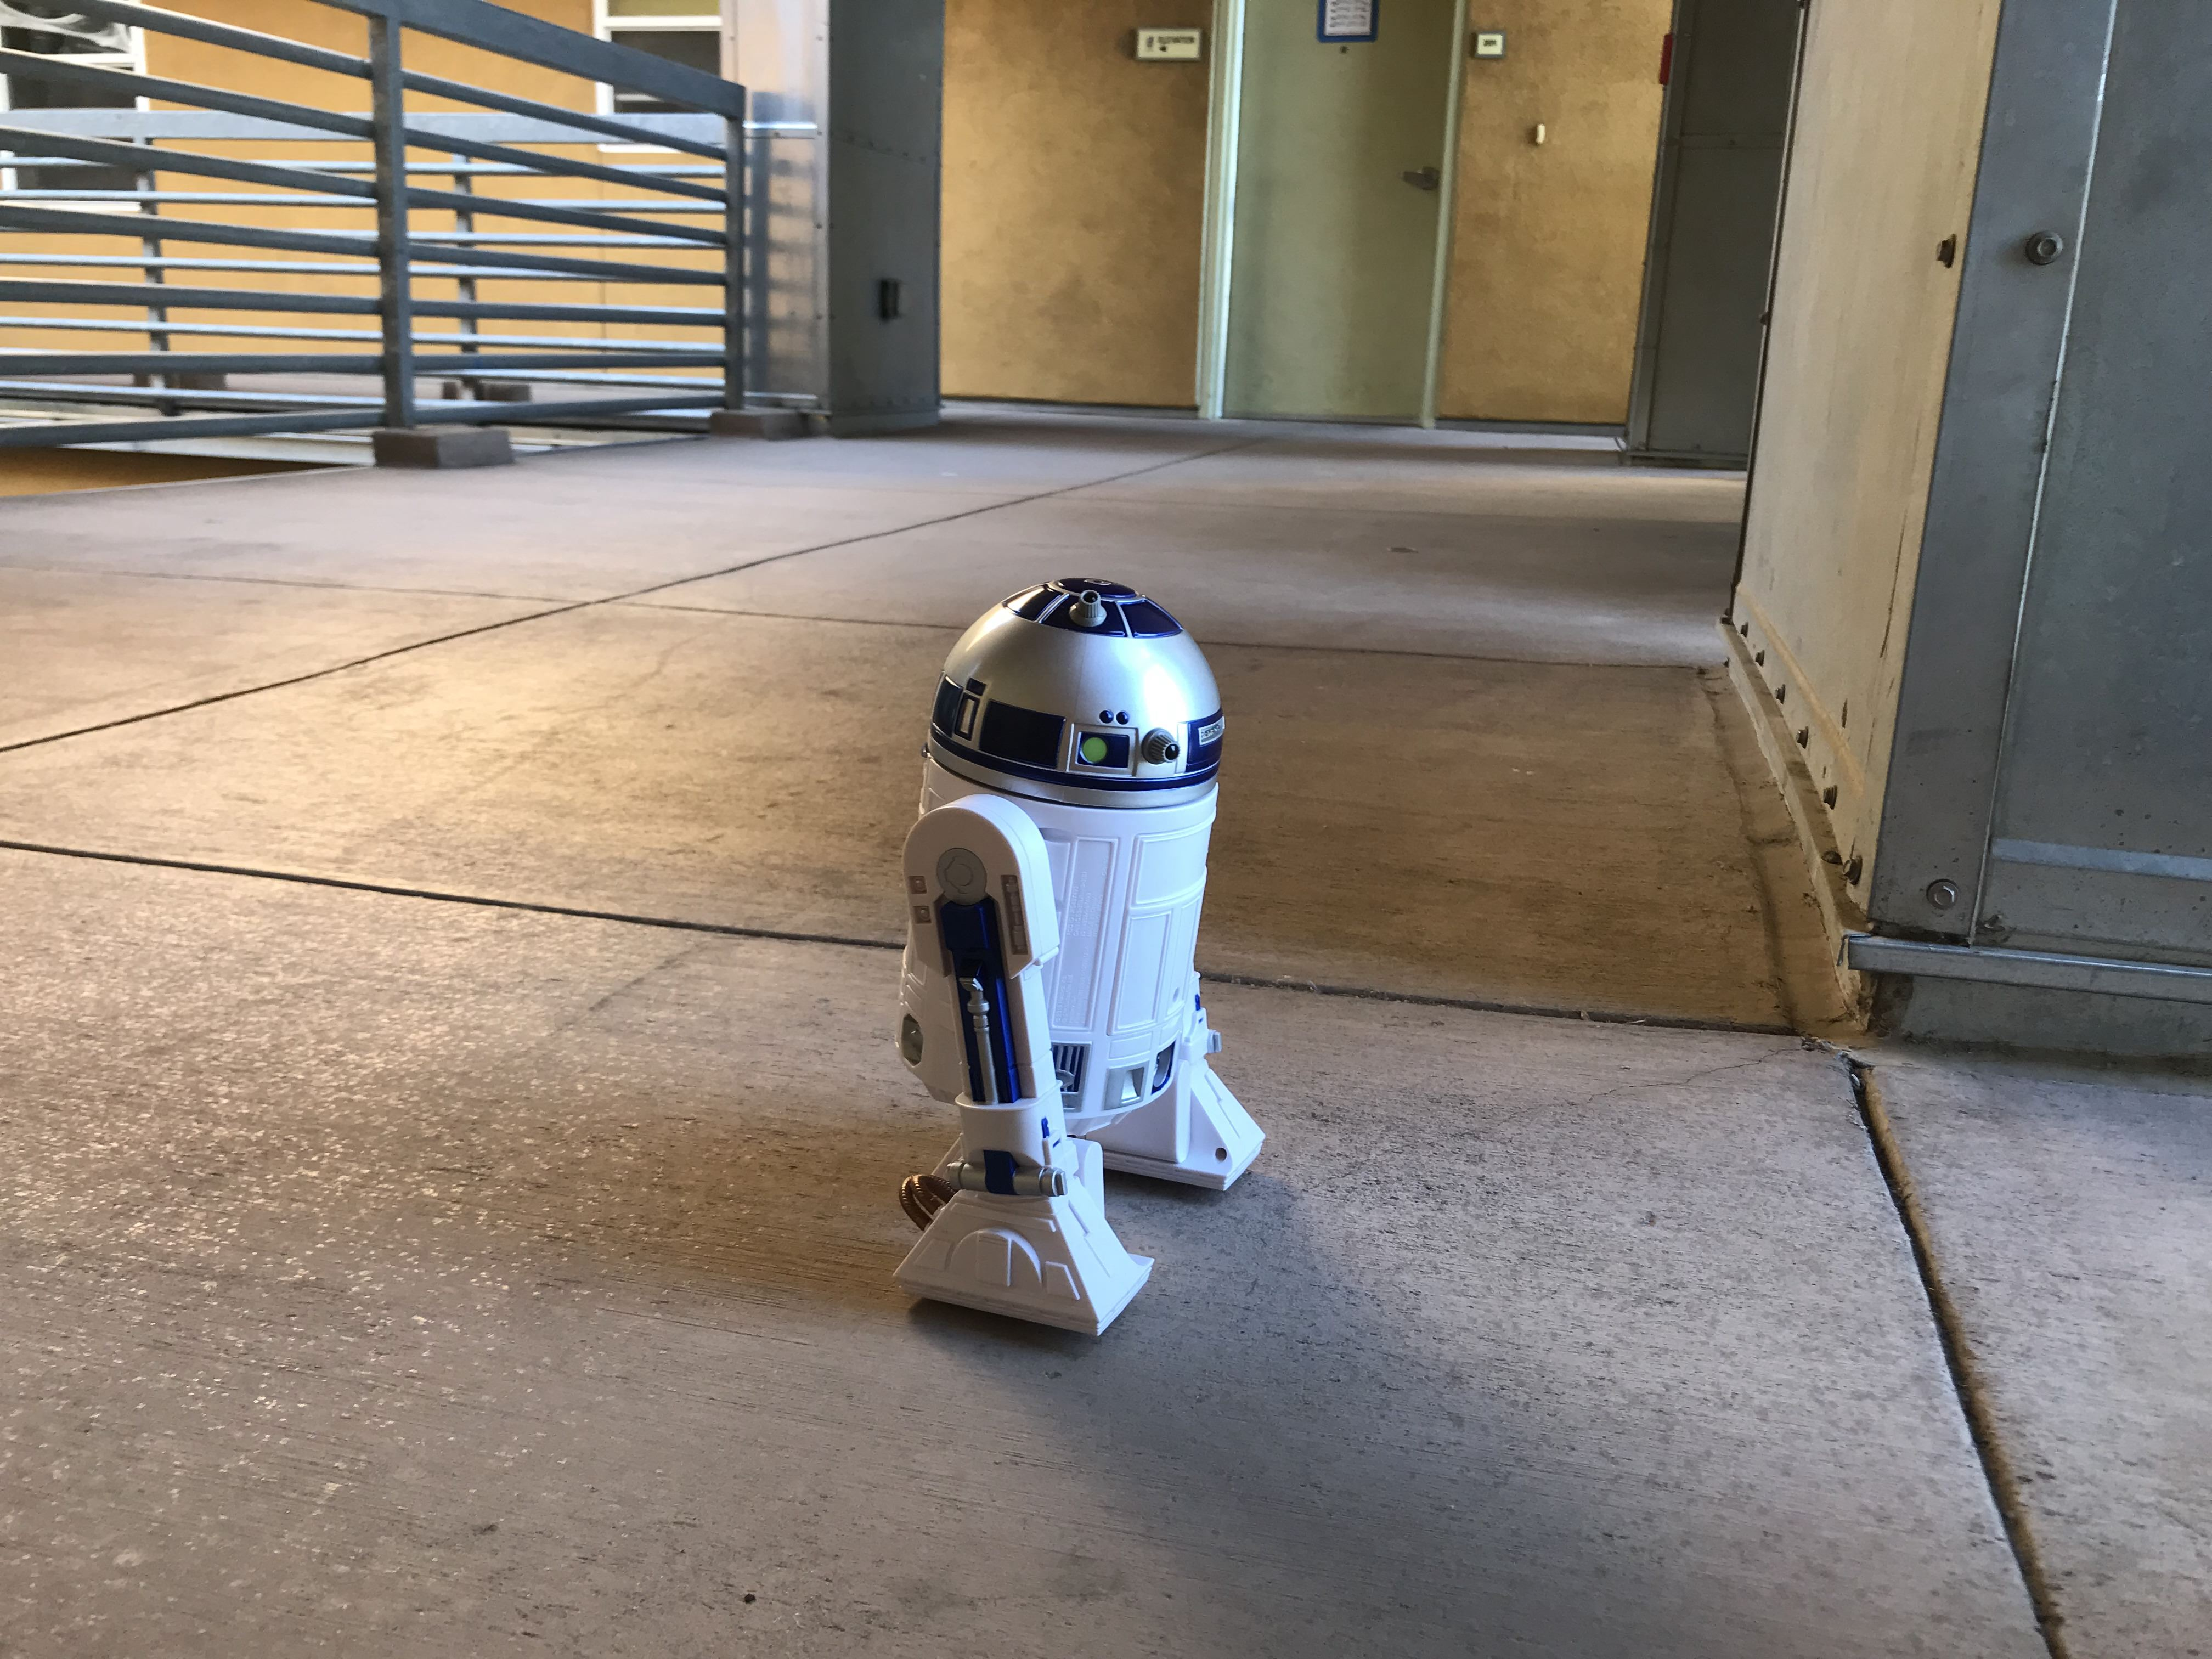r2d2: (892, 575, 1264, 1338)
